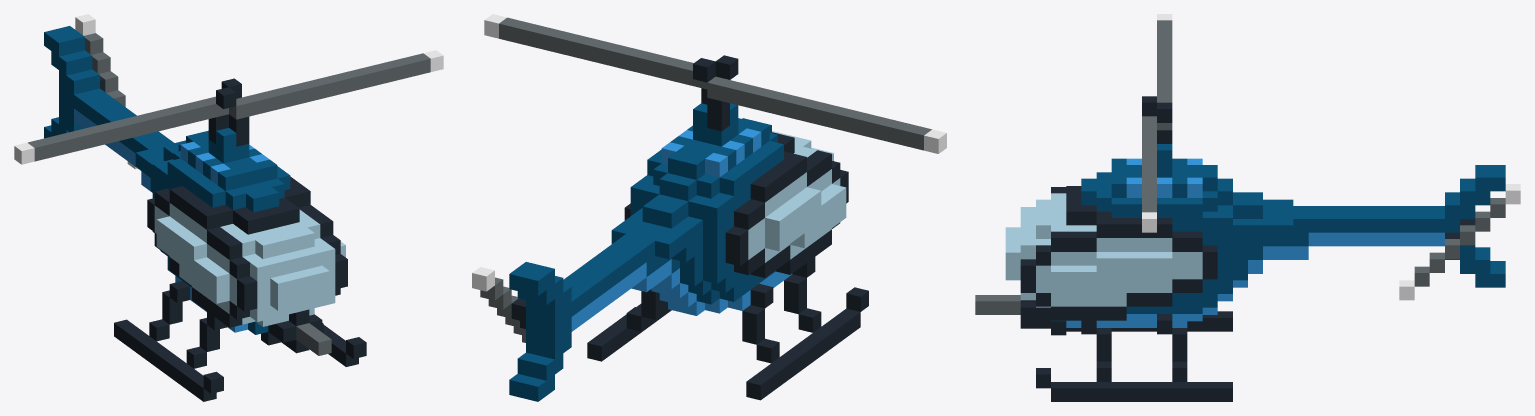
Rendered from scout_heli.obj.
3 renders of one model, left to right at view 1: azimuth 30°, elevation 25°; view 2: azimuth 150°, elevation 25°; view 3: azimuth 270°, elevation 25°, orthographic. The views are drawn at different scales.
Bounding box in the file's own units: 3.2 × 1.9 × 3.6.
1 material, 1 textured.
